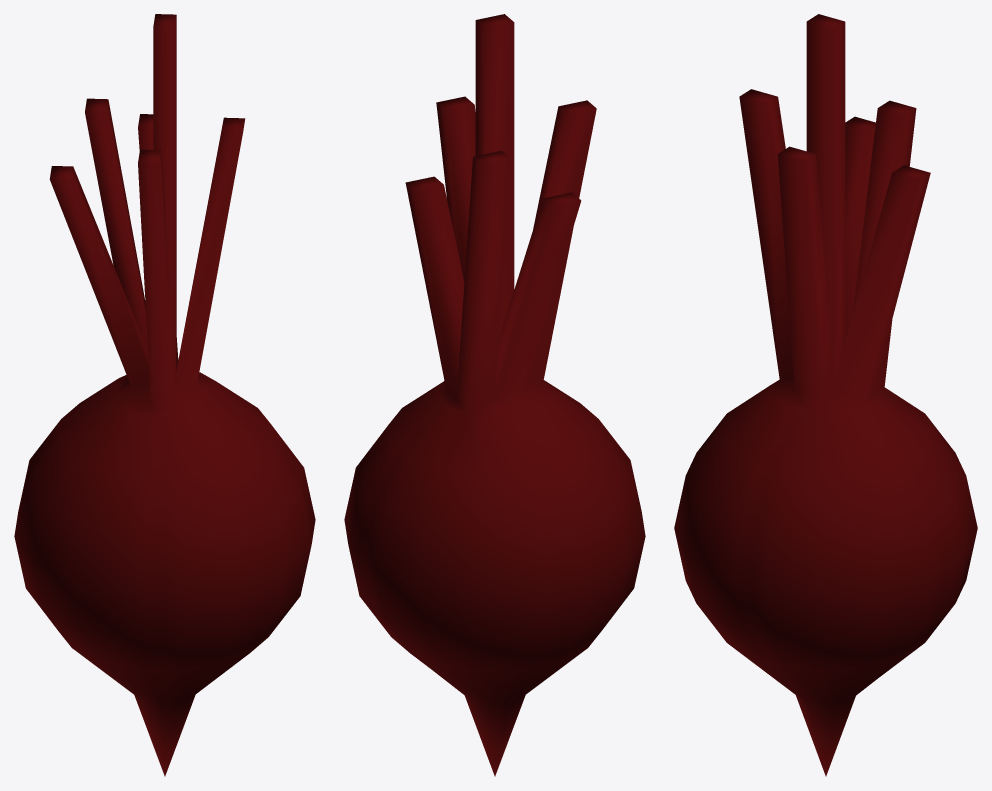
The model's file is Oonion.fbx.
3 views of the same model, side by side, from view 1: azimuth 30°, elevation 25°; view 2: azimuth 150°, elevation 25°; view 3: azimuth 270°, elevation 25° (orthographic).
Parts seen in each view (by area): view 1: Oonion; view 2: Oonion; view 3: Oonion.
Part boxes in pixels (x1,y1,x2,y2): Oonion: (14,14,315,776); Oonion: (344,14,645,776); Oonion: (674,14,977,776).
Bounding box in the file's own units: 20 × 54.91 × 20.
